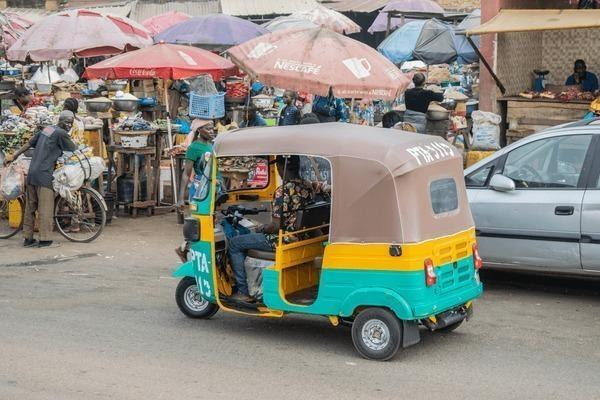keke: (182, 127, 484, 361)
